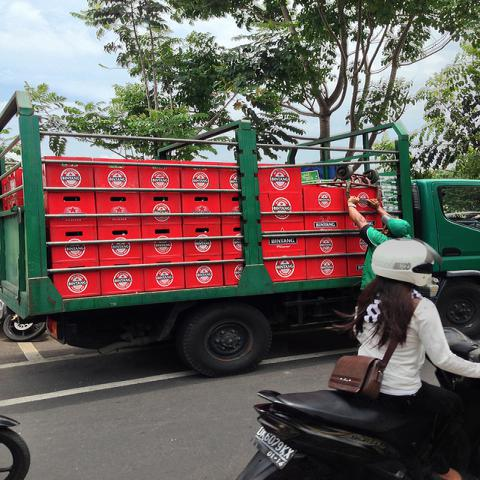motorcycle: (236, 325, 479, 479), (0, 416, 33, 480), (0, 304, 46, 342)
truck: (0, 89, 479, 378)
